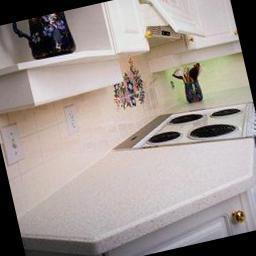Electrodomestico: (101, 94, 256, 158)
